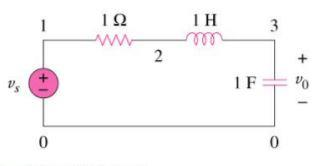Capacitor: (260, 61, 290, 97)
